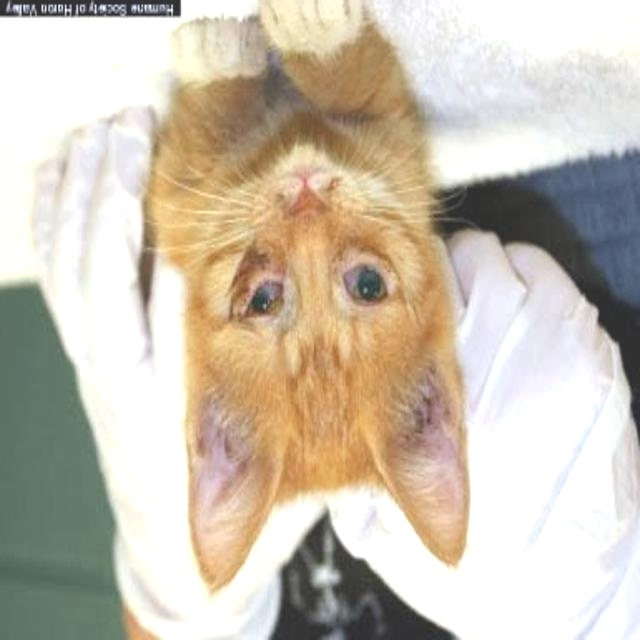eye_infection: (335, 260, 391, 307), (228, 275, 285, 315)
